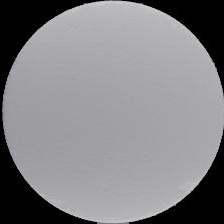48433-300: (0, 0, 224, 224)
